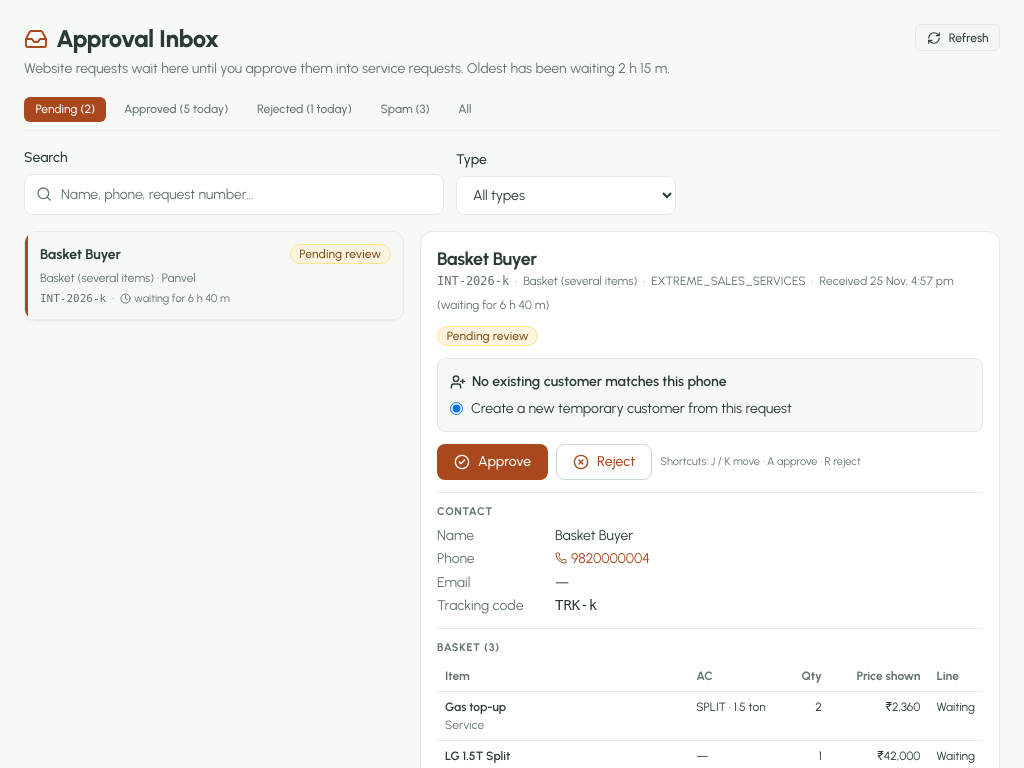
it: Approval Inbox › shows basket lines with prices, seller and an estimated total; default job type comes from the first service
The width and height of the screenshot is (1024, 768).
Click the button "Approve".
click(493, 462)  # box [437,444,548,480]
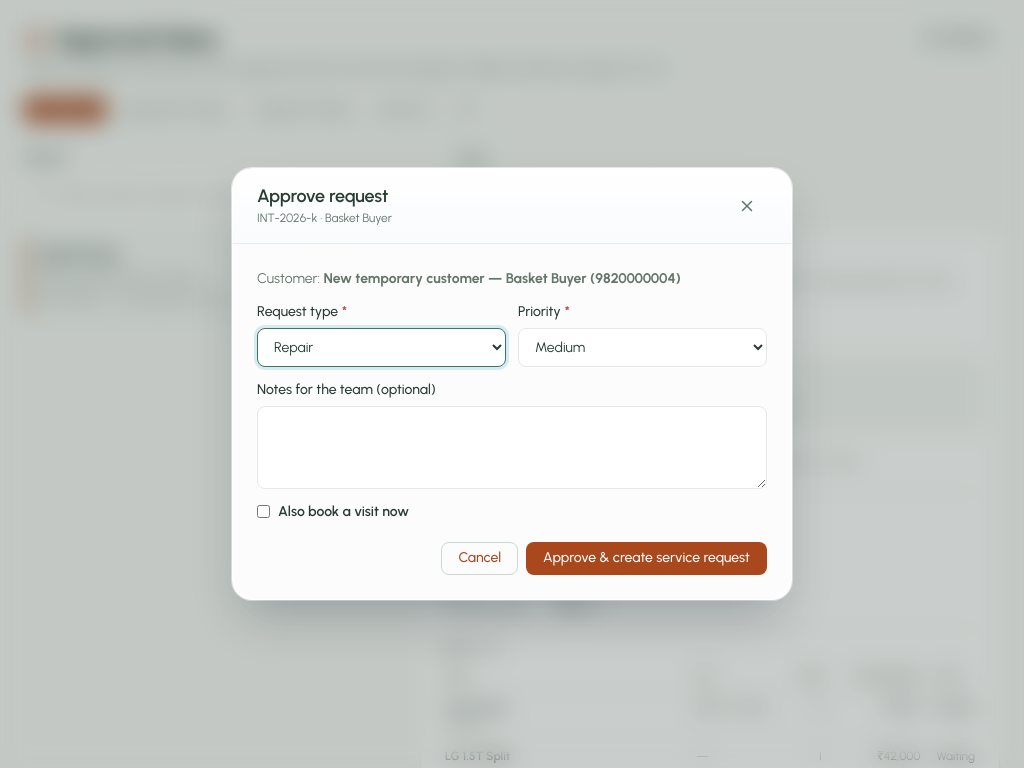
Expected: the dropdown with id "approve-request-type" shows "Repair", [257,328,506,367]
